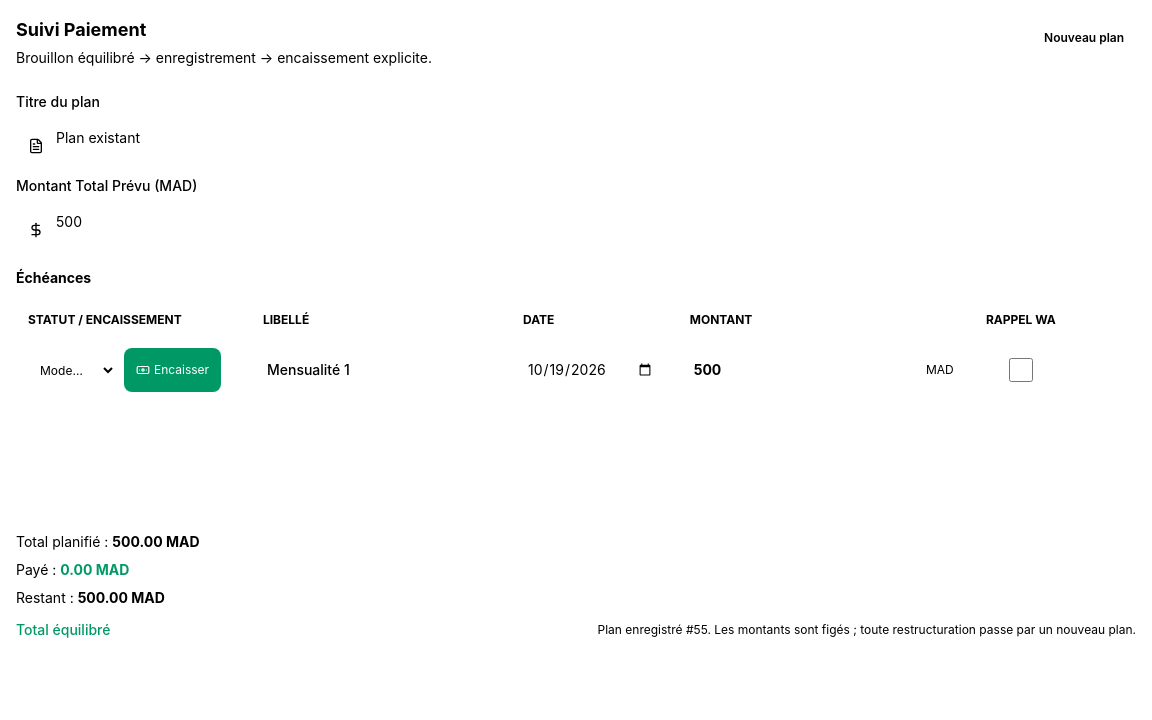
Test case: InstallmentStudio G4 payment-plan controls › collects a persisted installment only after payment method selection and backend ACK
Expected: the button "Encaisser" is disabled, [124,348,221,392]
Select "Carte" in the dropdown named "Mode de règlement Mensualité 1": [72, 370] box [28,348,116,392]
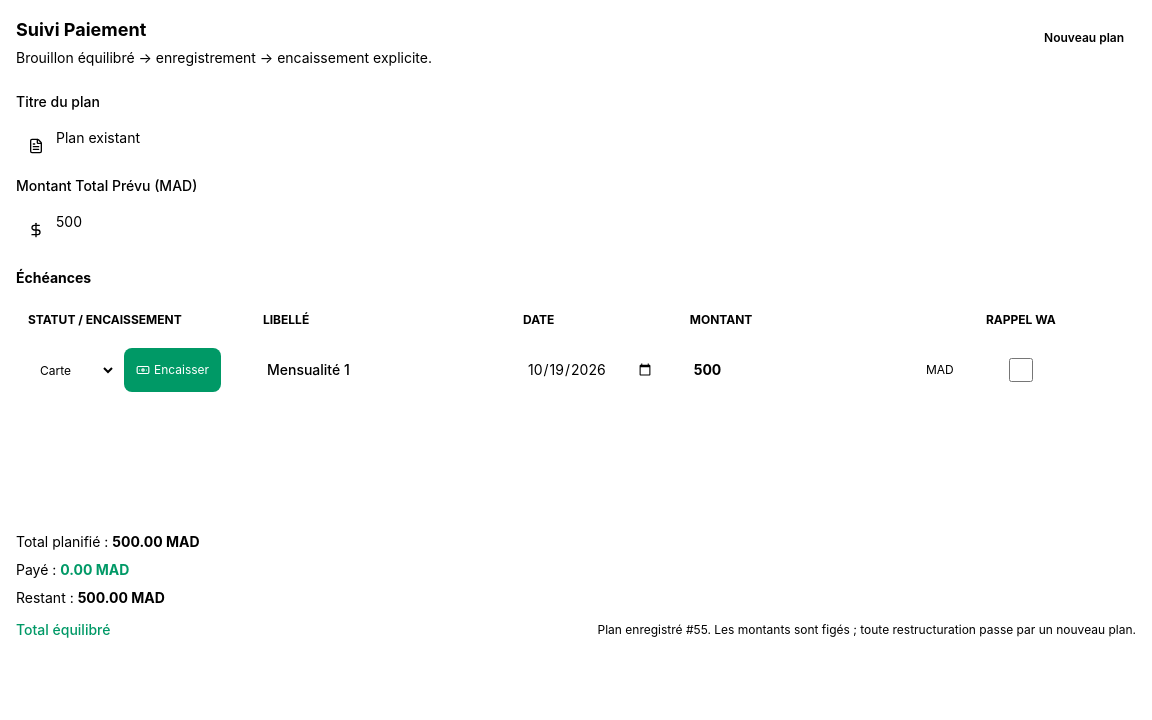
Click the button "Encaisser": [173, 370] box [124,348,221,392]
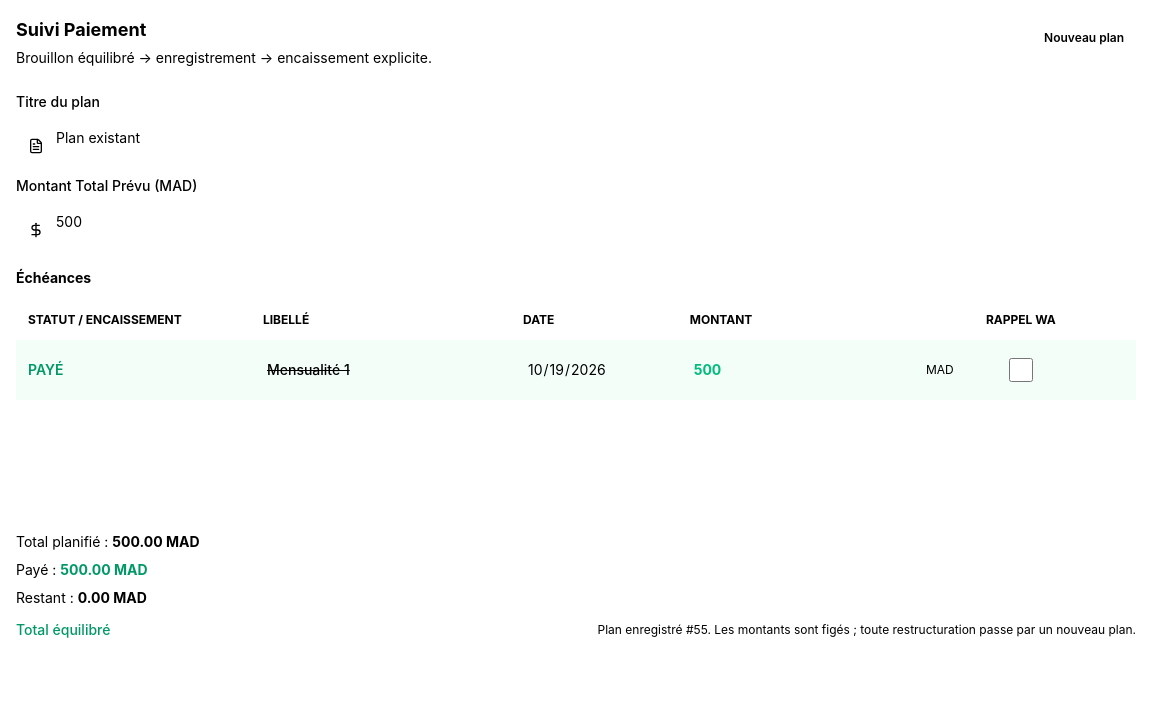
Expected: the field showing "Plan existant" below "Titre du plan" is shown, [16,116,1136,160]
Now the text "PAYÉ" is shown, box [28,361,64,378]
